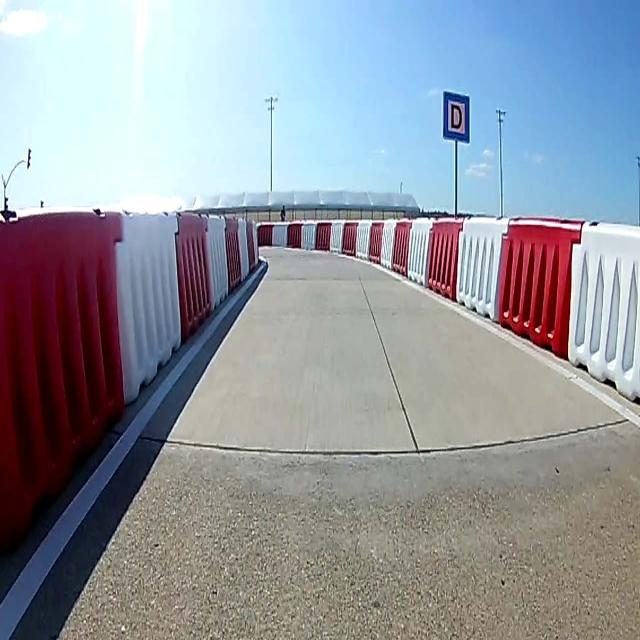durak: (442, 92, 470, 144)
